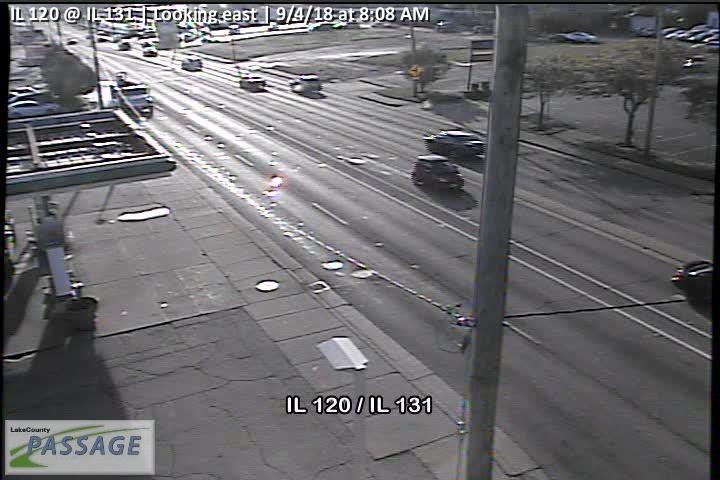SUV: (414, 154, 466, 193), (288, 73, 323, 94)
Sedan: (425, 129, 484, 159), (240, 75, 266, 91), (181, 54, 203, 71)
Truck: (109, 79, 153, 115)
